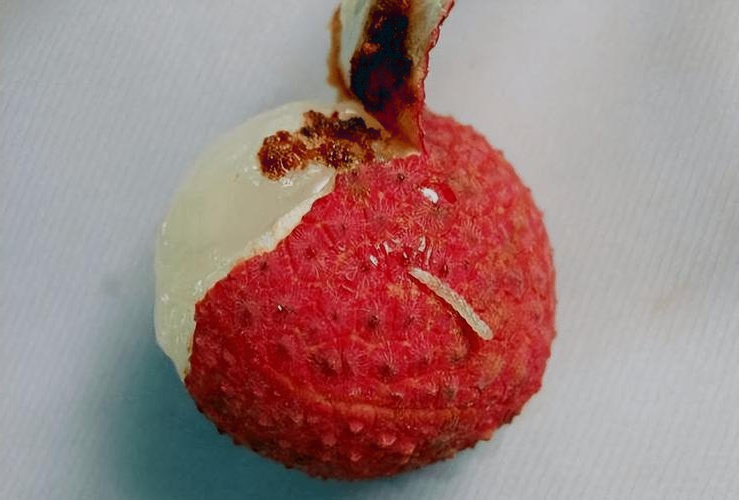Borer: (409, 265, 497, 337)
